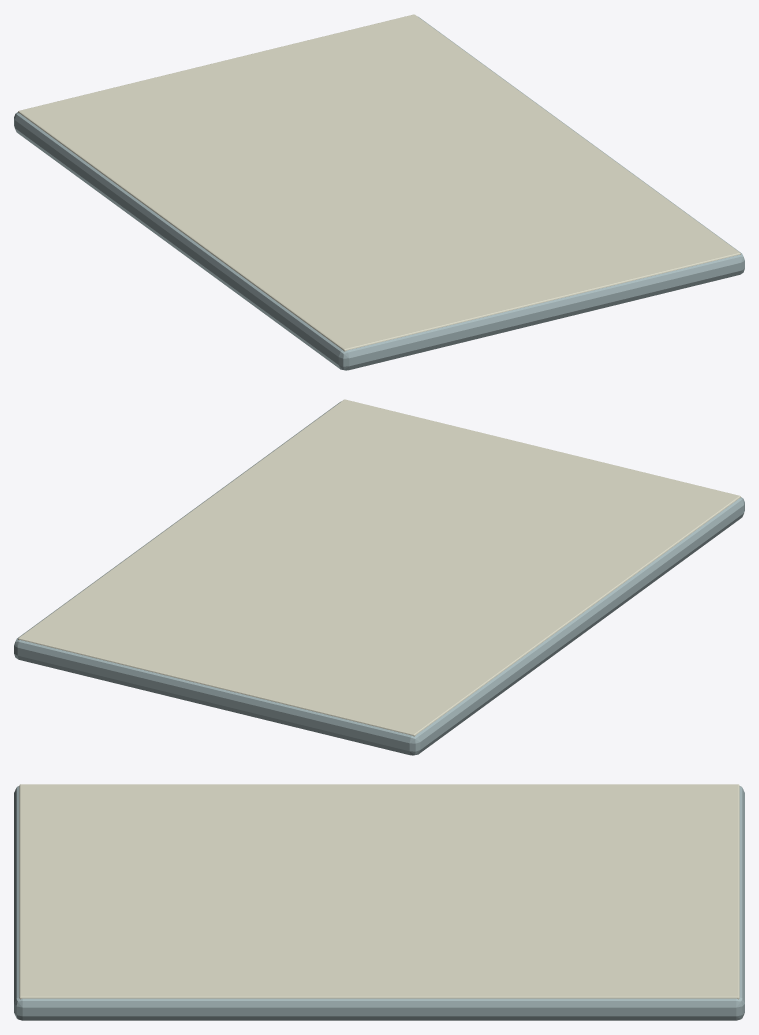
Rendered from terrain_0.glb.
3 views of the same model, one above another, from view 1: azimuth 30°, elevation 25°; view 2: azimuth 150°, elevation 25°; view 3: azimuth 270°, elevation 25° (orthographic). The views are drawn at different scales.
Visible parts, largest first — view 1: terrain_0_terrain_0, terrain_0_Ocean_basalt; view 2: terrain_0_terrain_0, terrain_0_Ocean_basalt; view 3: terrain_0_terrain_0, terrain_0_Ocean_basalt.
Part boxes in pixels (x1,y1,x2,y2): terrain_0_terrain_0: (18, 14, 740, 351); terrain_0_Ocean_basalt: (14, 16, 744, 370); terrain_0_terrain_0: (18, 399, 740, 736); terrain_0_Ocean_basalt: (14, 401, 744, 755); terrain_0_terrain_0: (19, 784, 739, 999); terrain_0_Ocean_basalt: (14, 786, 744, 1020).
Bounding box in the file's own units: 19.2 × 1.01 × 27.2.
